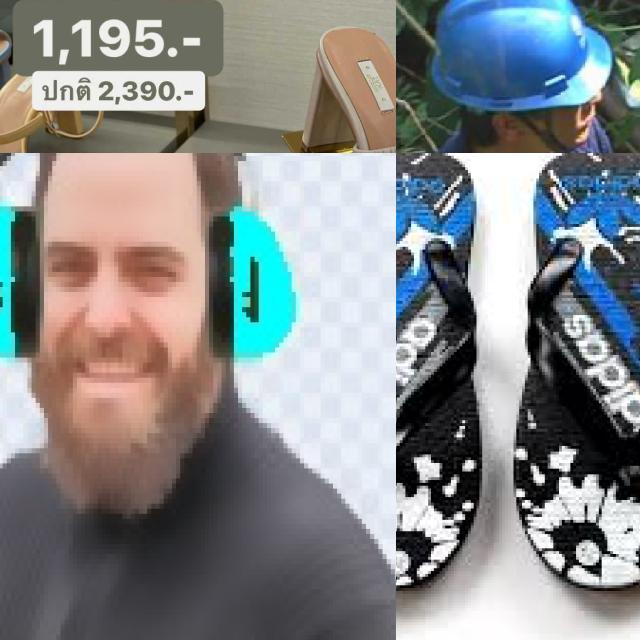Ear-protection: (0, 184, 306, 382)
No_Ear-Protection: (488, 104, 522, 153)
Sandals: (396, 153, 640, 640), (281, 20, 396, 153)
face_nomask: (551, 98, 600, 149)
head_helmet: (432, 0, 613, 112)
